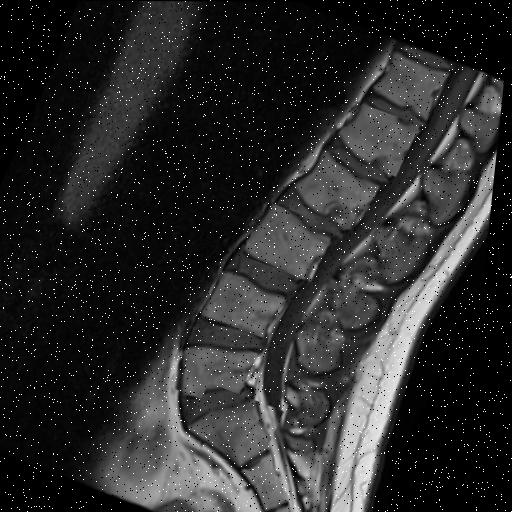L1: (343, 103, 422, 176)
L2: (298, 150, 383, 229)
L3: (250, 204, 335, 279)
L4: (208, 272, 290, 338)
L5: (189, 350, 265, 400)
S1: (196, 399, 279, 468)
